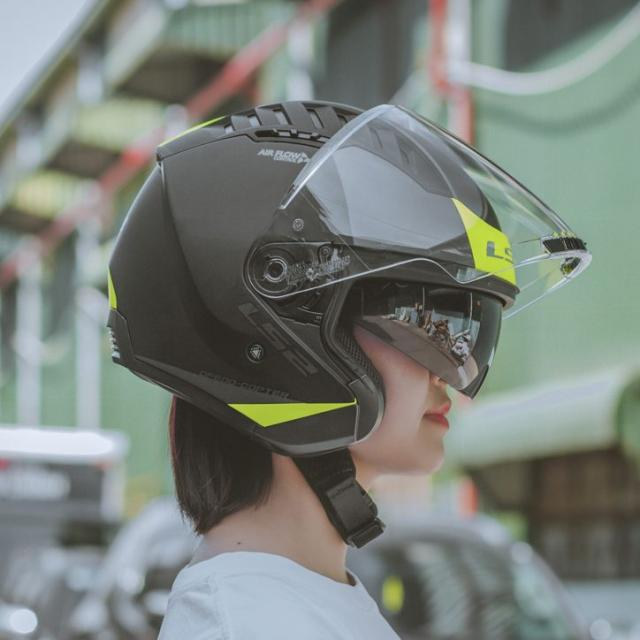helmet: (102, 92, 595, 461)
